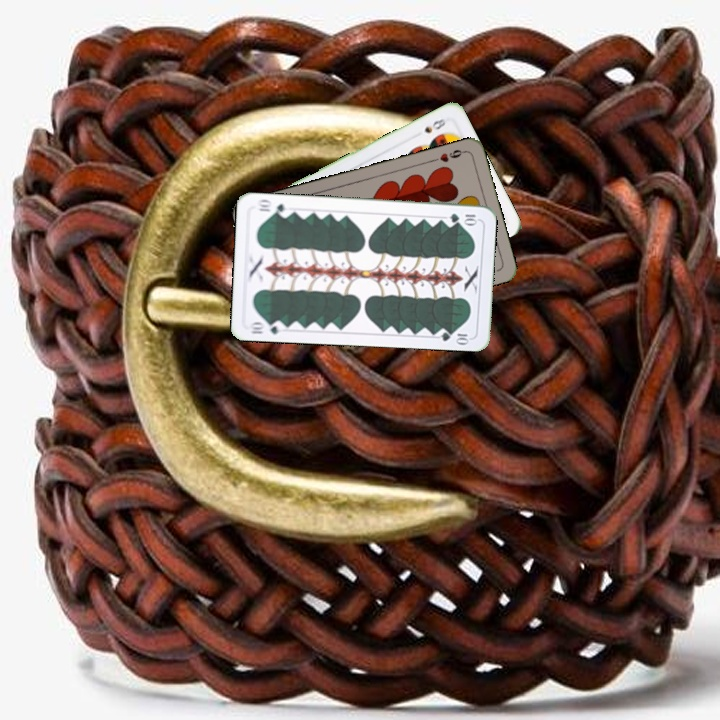G10: (246, 317, 286, 337), (445, 209, 480, 226)
H9: (428, 145, 468, 165)
S8: (420, 114, 448, 136)
